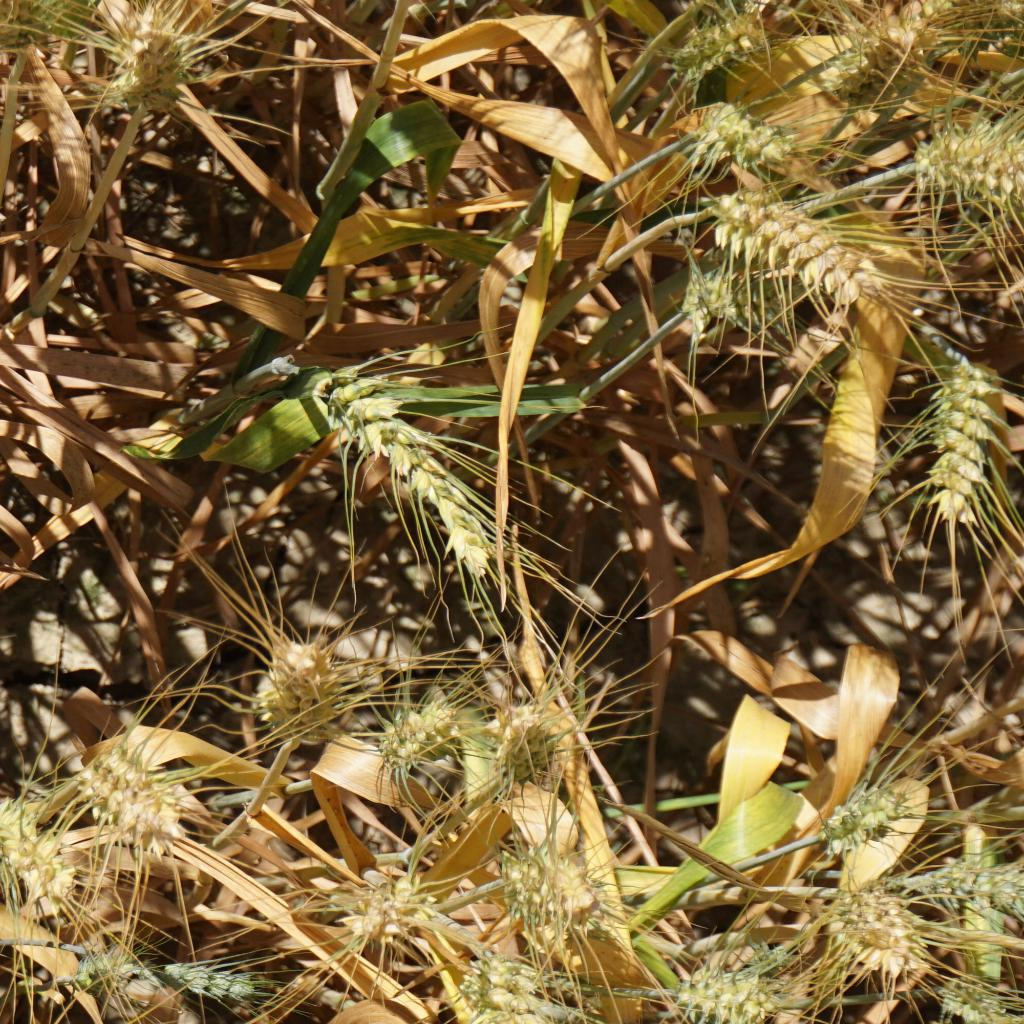0-0: (321, 372, 506, 581), (694, 192, 873, 295), (921, 347, 1001, 520), (80, 752, 211, 857), (256, 643, 365, 751), (908, 124, 1024, 212), (490, 833, 597, 928), (815, 775, 915, 866), (106, 8, 187, 118), (460, 943, 570, 1022), (156, 952, 284, 1016), (844, 884, 927, 981), (822, 14, 903, 111), (0, 799, 72, 907), (679, 247, 780, 323), (669, 7, 766, 86), (341, 859, 425, 943), (932, 851, 1024, 926), (379, 689, 452, 776), (698, 100, 786, 172), (674, 958, 769, 1024), (940, 960, 1024, 1024), (492, 698, 551, 782), (72, 938, 135, 994), (0, 0, 73, 42)
